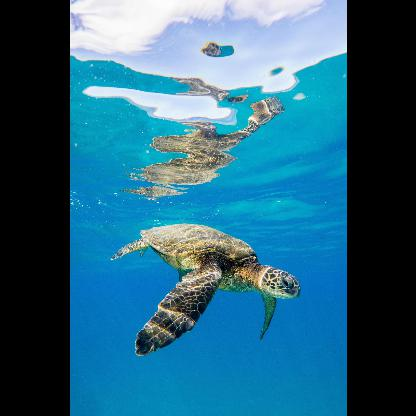turtle: (106, 219, 300, 355)
